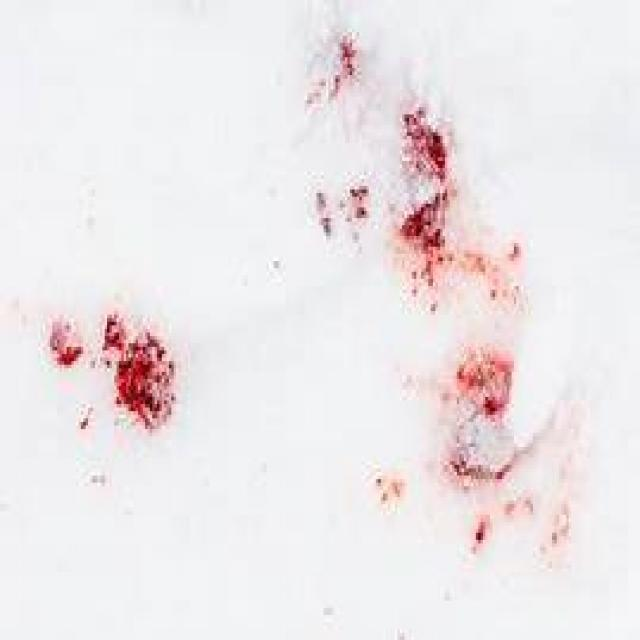wound: (333, 116, 531, 316), (424, 332, 568, 520), (35, 296, 196, 460), (296, 34, 384, 128)
